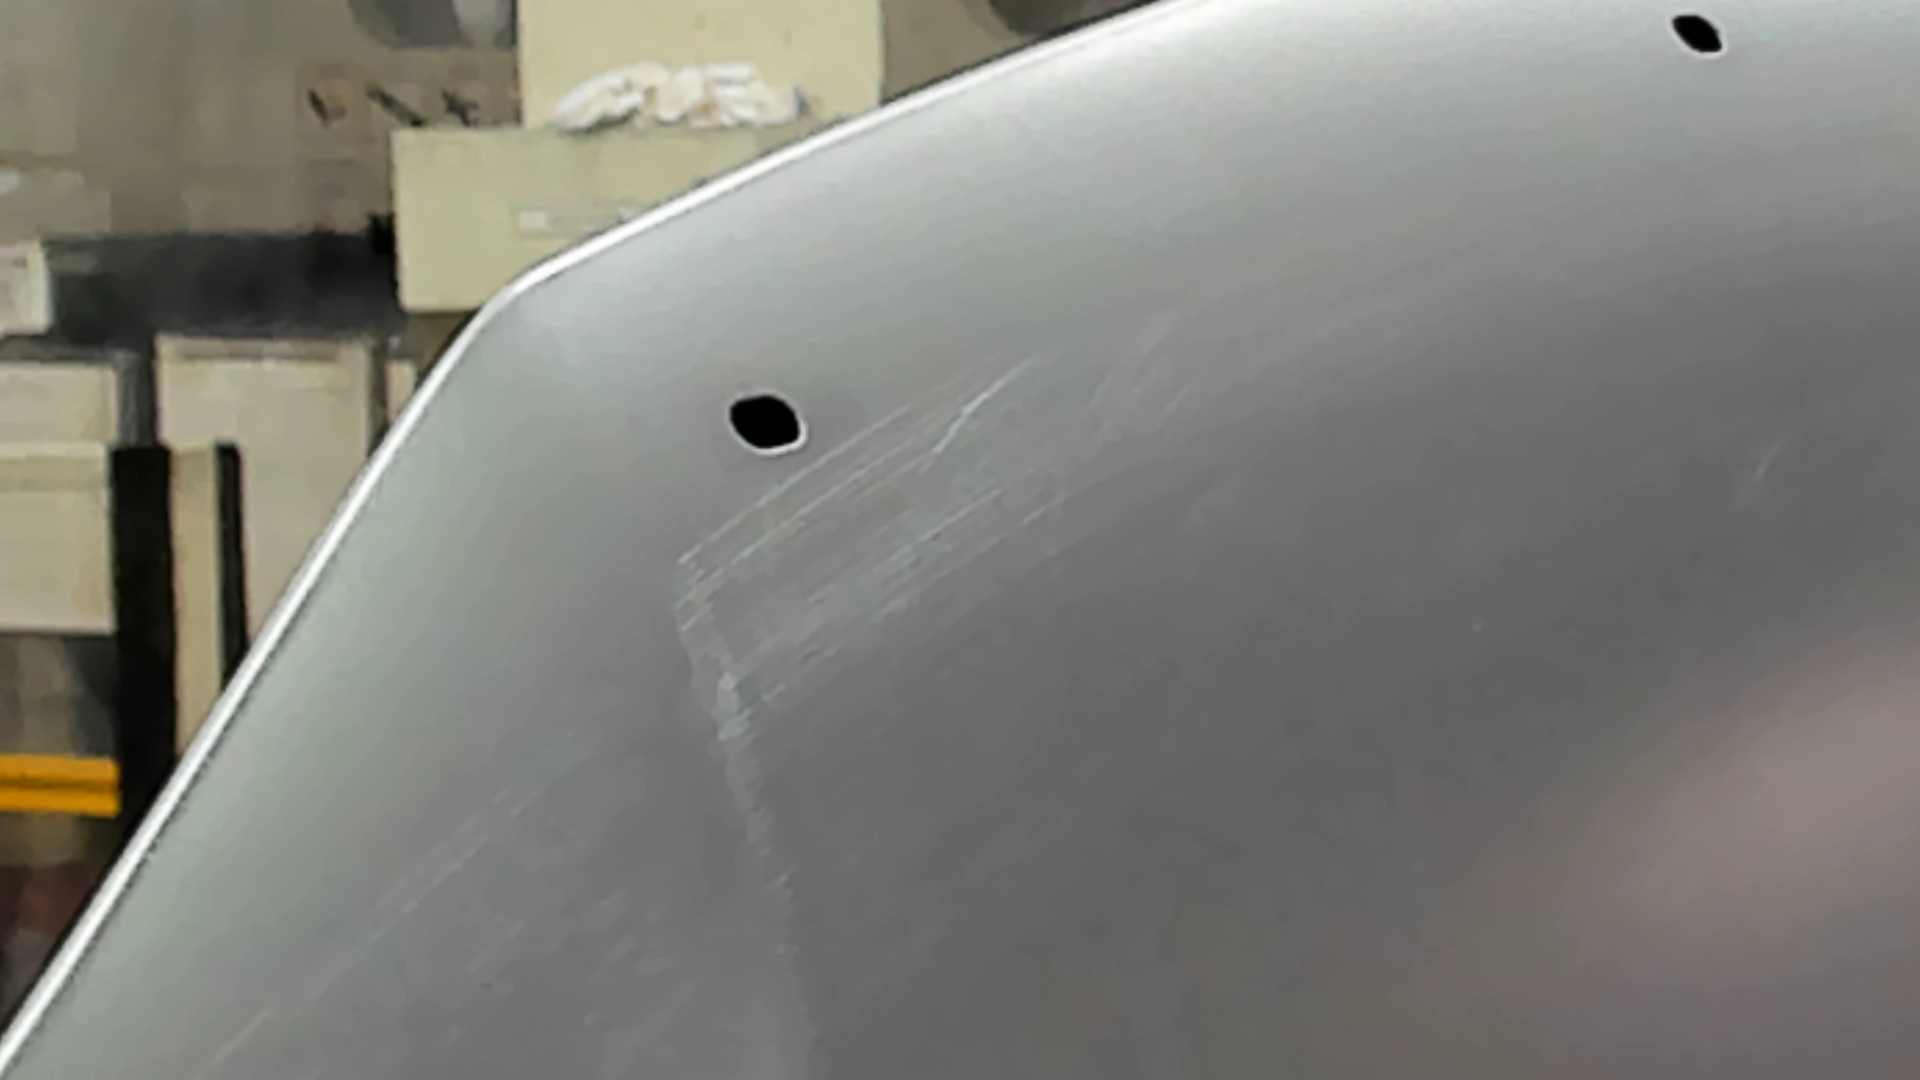amorfo: (720, 382, 815, 463), (1669, 3, 1729, 69)
capo: (923, 121, 1920, 1080)
